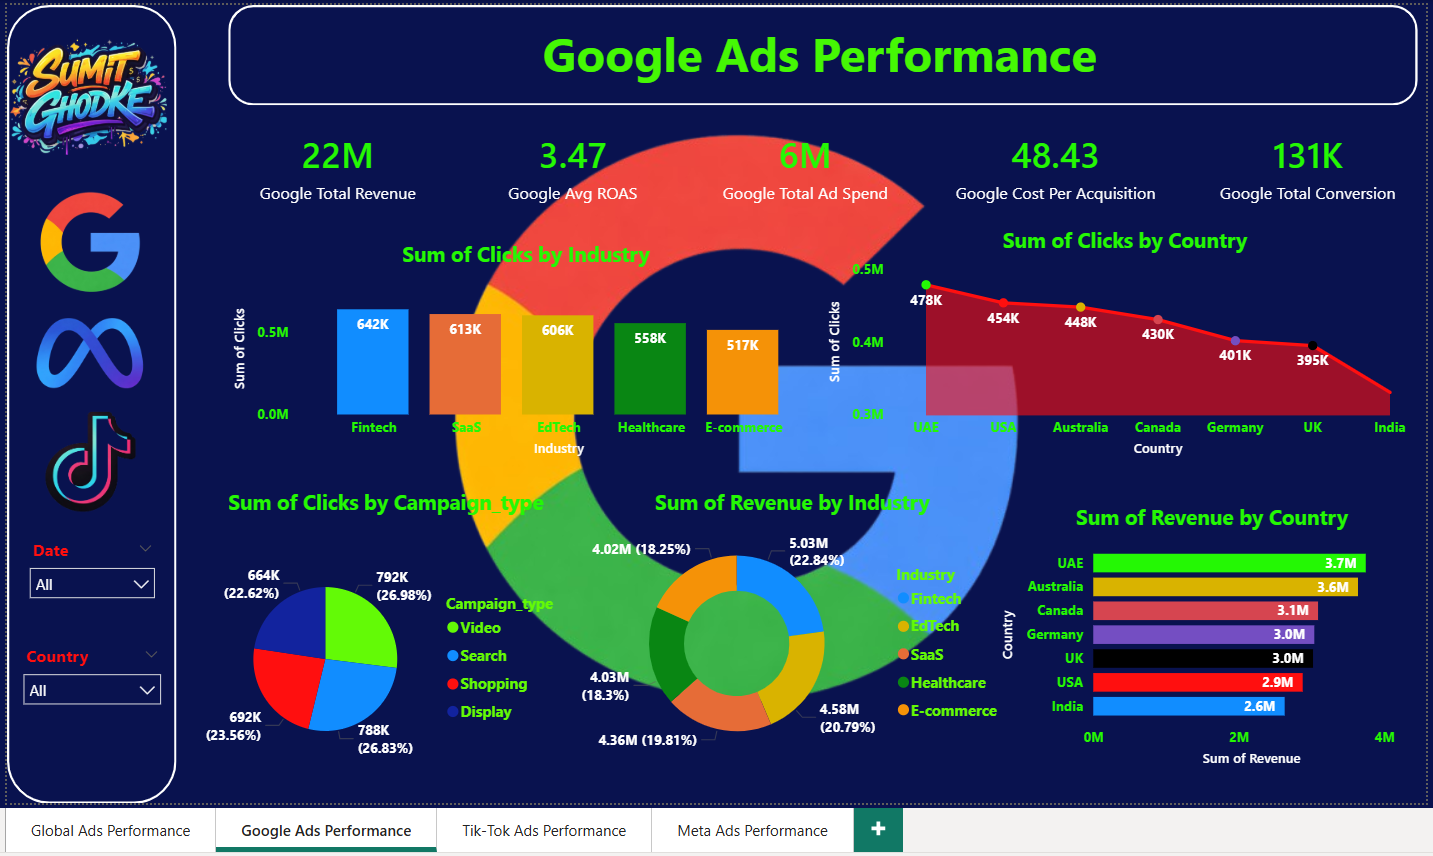

Layout of this report page (visuals, bound fields, positions):
{"tool":"powerbi","page":{"name":"Google Ads Performance","canvas":[1280,720],"ordinal":1},"visuals":[{"type":"shape","box":[199.3,0,1072.4,90.5],"z":0},{"type":"shape","box":[0,0,152.9,720.2],"z":1000},{"type":"textbox","box":[209.1,8.6,1046.7,72.1],"z":2000},{"type":"image","box":[0,0,144.3,161.4],"z":3000},{"type":"image","box":[25.7,161.4,99,100.3],"z":4000},{"type":"image","box":[25.7,261.7,99,100.3],"z":5000},{"type":"image","box":[25.7,362,99,100.3],"z":6000},{"type":"card","fields":{"Values":["Google Ads.Google Total Revenue"]},"box":[199.3,101.5,198.1,86.8],"z":7000},{"type":"card","fields":{"Values":["Google Ads.Google Avg ROAS"]},"box":[410.9,101.5,198.1,86.8],"z":8000},{"type":"card","fields":{"Values":["Google Ads.Google Total Ad Spend"]},"box":[621.2,101.5,198.1,86.8],"z":9000},{"type":"card","fields":{"Values":["Google Ads.Google Cost Per Acquisition"]},"box":[829.1,101.5,232.3,86.8],"z":10000},{"type":"card","fields":{"Values":["Google Ads.Google Total Conversion"]},"box":[1073.6,101.5,198.1,86.8],"z":11000},{"type":"clusteredColumnChart","fields":{"Category":["Google Ads.Industry"],"Y":["Google Ads.Clicks"]},"box":[199.3,211.6,536.8,200.5],"z":12000},{"type":"clusteredBarChart","fields":{"Category":["Google Ads.Country"],"Y":["Google Ads.Revenue"]},"box":[892.7,448.8,387.6,243.3],"z":13000},{"type":"pieChart","fields":{"Category":["Google Ads.Campaign_type"],"Y":["Google Ads.Clicks"]},"box":[173.6,435.3,336.3,284.9],"z":14000},{"type":"donutChart","fields":{"Category":["Google Ads.Industry"],"Y":["Google Ads.Revenue"]},"box":[509.9,435.3,397.4,256.8],"z":15000},{"type":"stackedAreaChart","fields":{"Category":["Google Ads.Country"],"Y":["Google Ads.Clicks"]},"box":[736.1,199.3,544.2,212.8],"z":16000},{"type":"slicer","fields":{"Values":["Google Ads.Date"]},"box":[9.8,475.7,133.3,75.8],"z":17000},{"type":"slicer","fields":{"Values":["Google Ads.Country"]},"box":[4.9,571.1,144.3,79.5],"z":18000}]}

Visuals, with their boxes on the page's 1280x720 design canvas (x1, y1, x2, y2). These are canvas units, not pixel positions in the 1433x856 screenshot, which may show the page scaled, cropped or inside an application window:
shape: <box>199,0,1272,90</box>
shape: <box>0,0,153,720</box>
textbox: <box>209,9,1256,81</box>
image: <box>0,0,144,161</box>
image: <box>26,161,125,262</box>
image: <box>26,262,125,362</box>
image: <box>26,362,125,462</box>
card - Google Ads.Google Total Revenue: <box>199,102,397,188</box>
card - Google Ads.Google Avg ROAS: <box>411,102,609,188</box>
card - Google Ads.Google Total Ad Spend: <box>621,102,819,188</box>
card - Google Ads.Google Cost Per Acquisition: <box>829,102,1061,188</box>
card - Google Ads.Google Total Conversion: <box>1074,102,1272,188</box>
clusteredColumnChart - Google Ads.Industry x Google Ads.Clicks: <box>199,212,736,412</box>
clusteredBarChart - Google Ads.Country x Google Ads.Revenue: <box>893,449,1280,692</box>
pieChart - Google Ads.Campaign_type x Google Ads.Clicks: <box>174,435,510,720</box>
donutChart - Google Ads.Industry x Google Ads.Revenue: <box>510,435,907,692</box>
stackedAreaChart - Google Ads.Country x Google Ads.Clicks: <box>736,199,1280,412</box>
slicer - Google Ads.Date: <box>10,476,143,552</box>
slicer - Google Ads.Country: <box>5,571,149,651</box>
